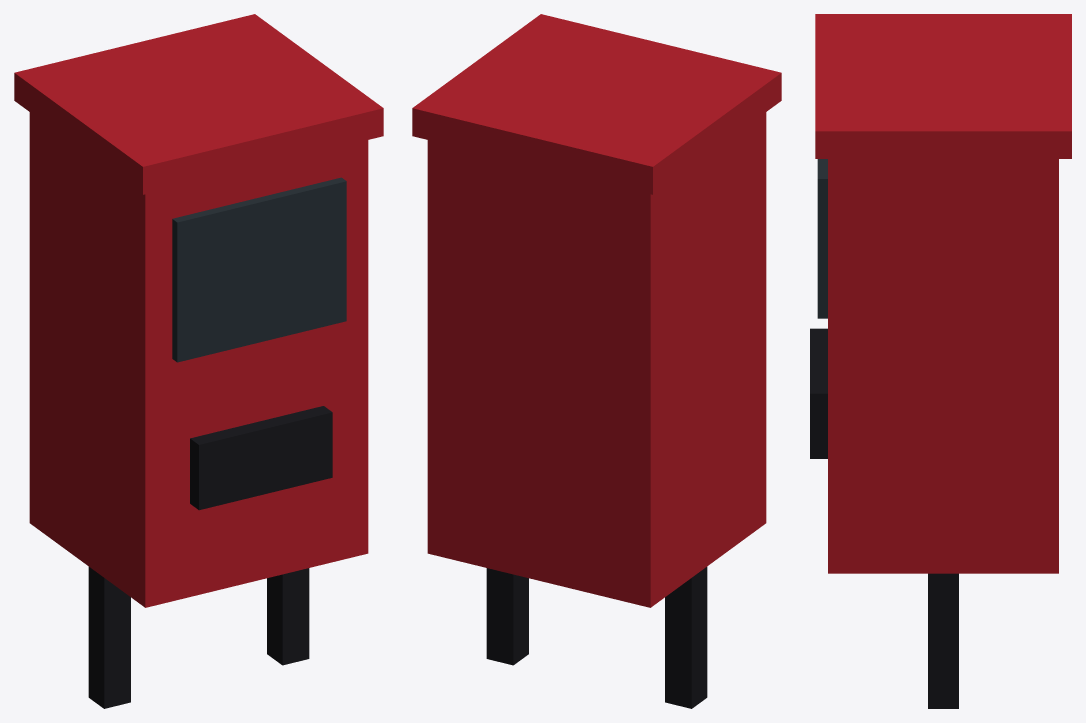
The model's file is newsbox.glb.
3 renders of one model, left to right at view 1: azimuth 30°, elevation 25°; view 2: azimuth 150°, elevation 25°; view 3: azimuth 270°, elevation 25°, orthographic.
Visible parts, largest first — view 1: Cube; view 2: Cube; view 3: Cube.
Part boxes in pixels (left/top/right/bottom): Cube: left=14, top=14, right=383, bottom=708; Cube: left=412, top=14, right=781, bottom=708; Cube: left=810, top=14, right=1071, bottom=708.
Bounding box in the file's own units: 0.5399 × 1.26 × 0.5099.
